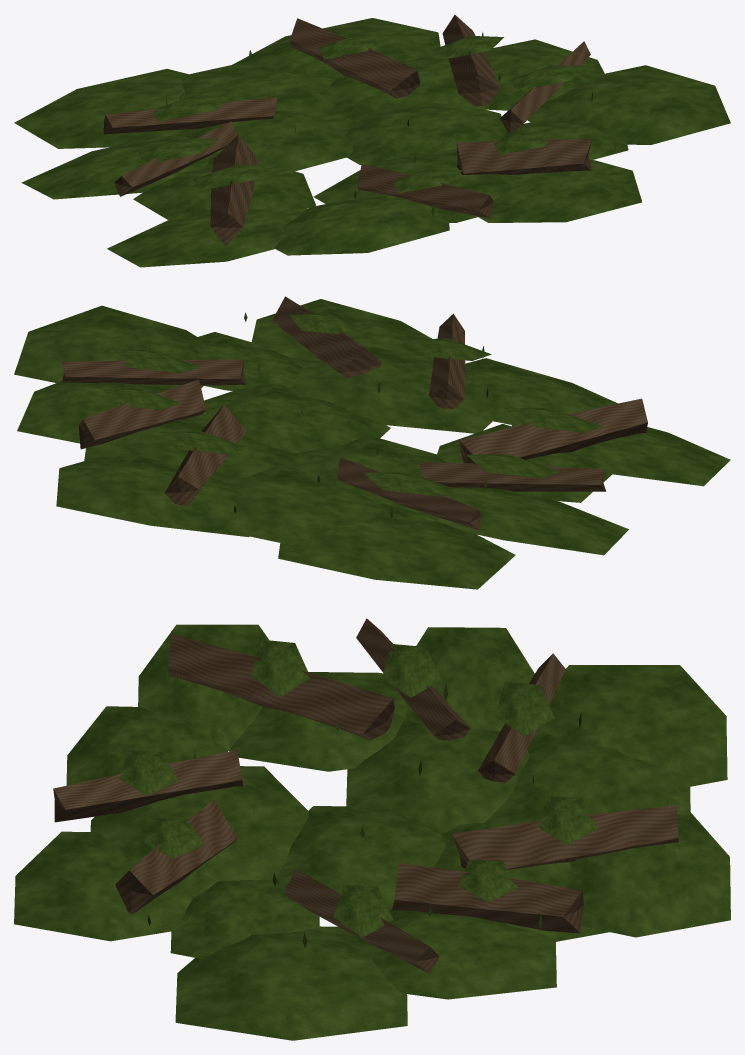
File: Moss_Deadwood_Patch_01_LOD2.fbx
The picture shows the model from 3 angles, top to bottom: view 1: azimuth 30°, elevation 25°; view 2: azimuth 150°, elevation 25°; view 3: azimuth 270°, elevation 25°; orthographic projection. The views are drawn at different scales.
Visible parts, largest first — view 1: Moss_Deadwood_Patch_01_LOD2_Mesh; view 2: Moss_Deadwood_Patch_01_LOD2_Mesh; view 3: Moss_Deadwood_Patch_01_LOD2_Mesh.
Boxes of the visible parts, x1,y1,x2,y2 form: Moss_Deadwood_Patch_01_LOD2_Mesh: [14, 15, 730, 267]; Moss_Deadwood_Patch_01_LOD2_Mesh: [14, 296, 730, 589]; Moss_Deadwood_Patch_01_LOD2_Mesh: [14, 618, 730, 1040].
Bounding box in the file's own units: 183 × 13.2 × 132.
